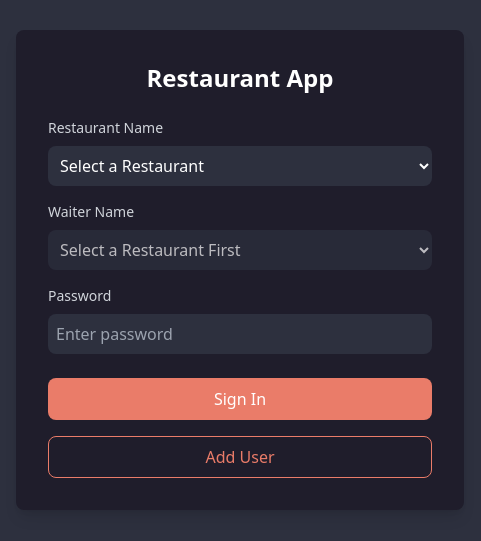
Restaurant Login › should show an error message if password is incorrect
In the password field labelled "Password": (240, 334) [48,314,432,354], type "wrong-password"
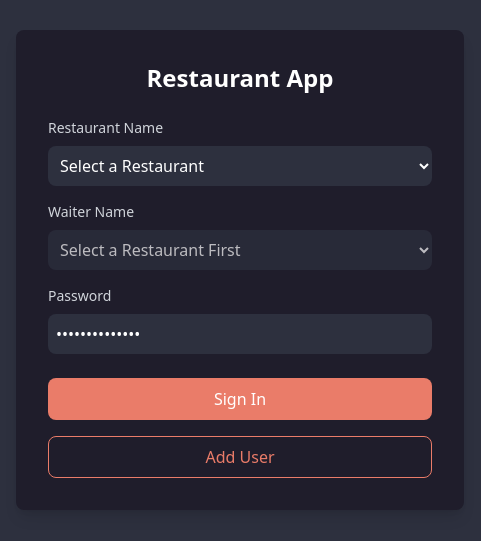
Click the button "Sign In": click(240, 399) [48,378,432,420]
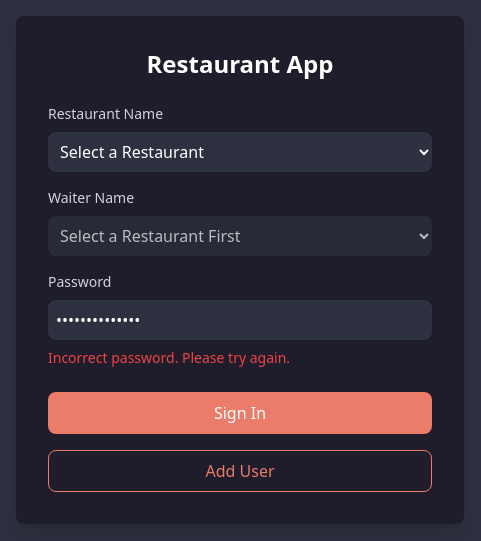
Result: the text "Incorrect password. Please try again." is shown at [48,348,290,367]
